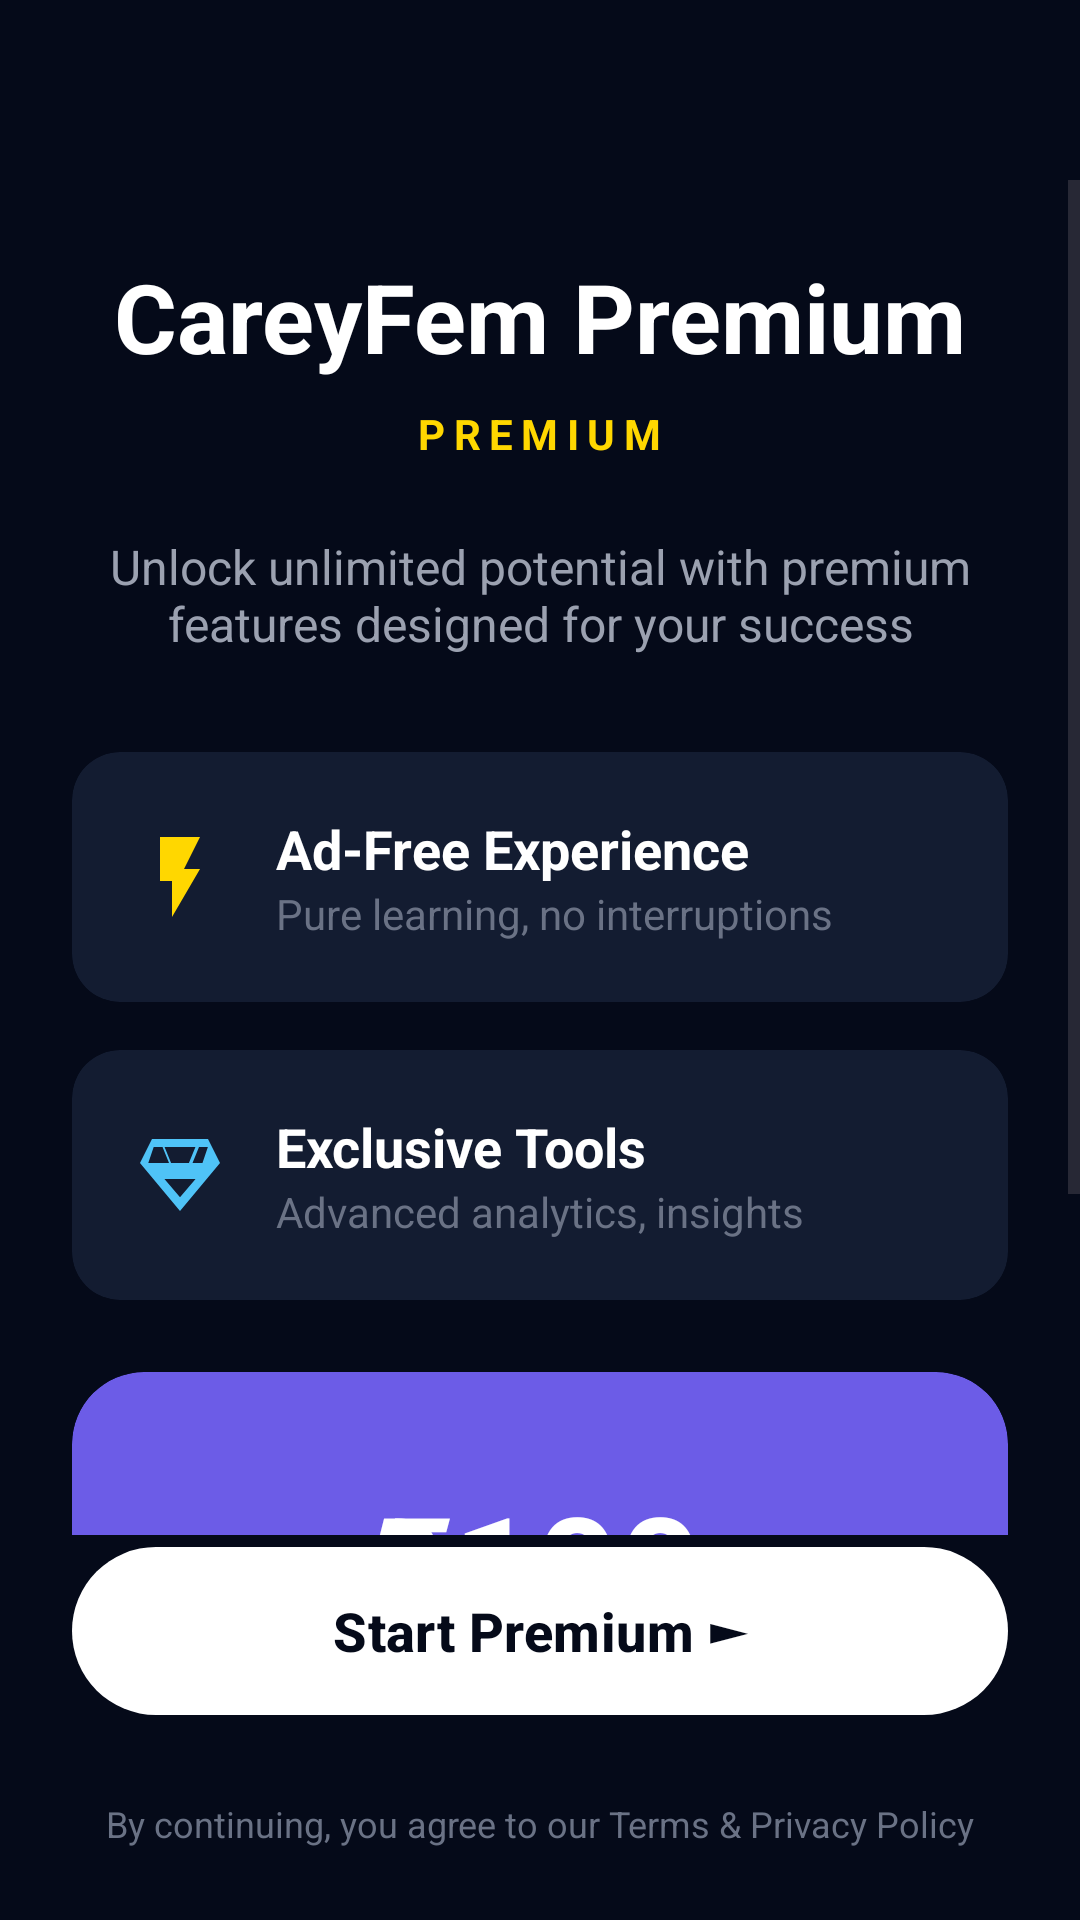

Named icons in this screenshot (1080w x 1920h) and their centers, (x=x, y=y):
bolt: (x=180, y=877)
diamond: (x=180, y=1175)
